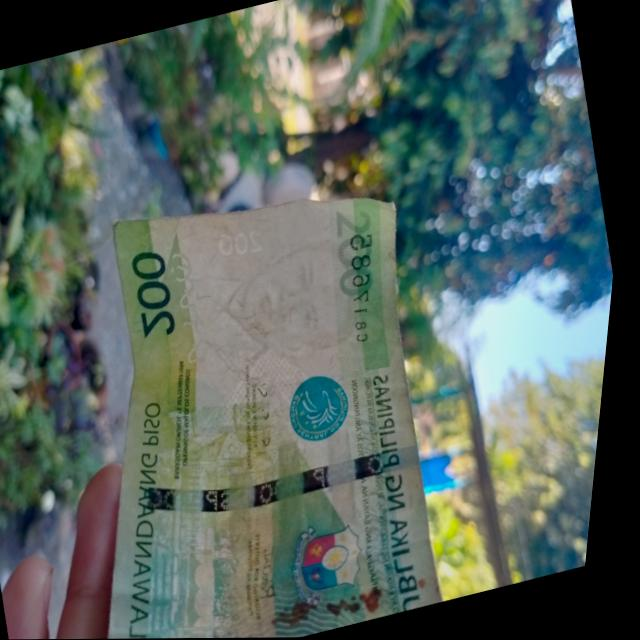security_thread: (121, 415, 434, 540)
see_through_mark: (157, 236, 240, 390)
serial_number: (335, 226, 405, 346)
value_watermark: (207, 215, 282, 270)
watermark: (192, 222, 395, 412)
